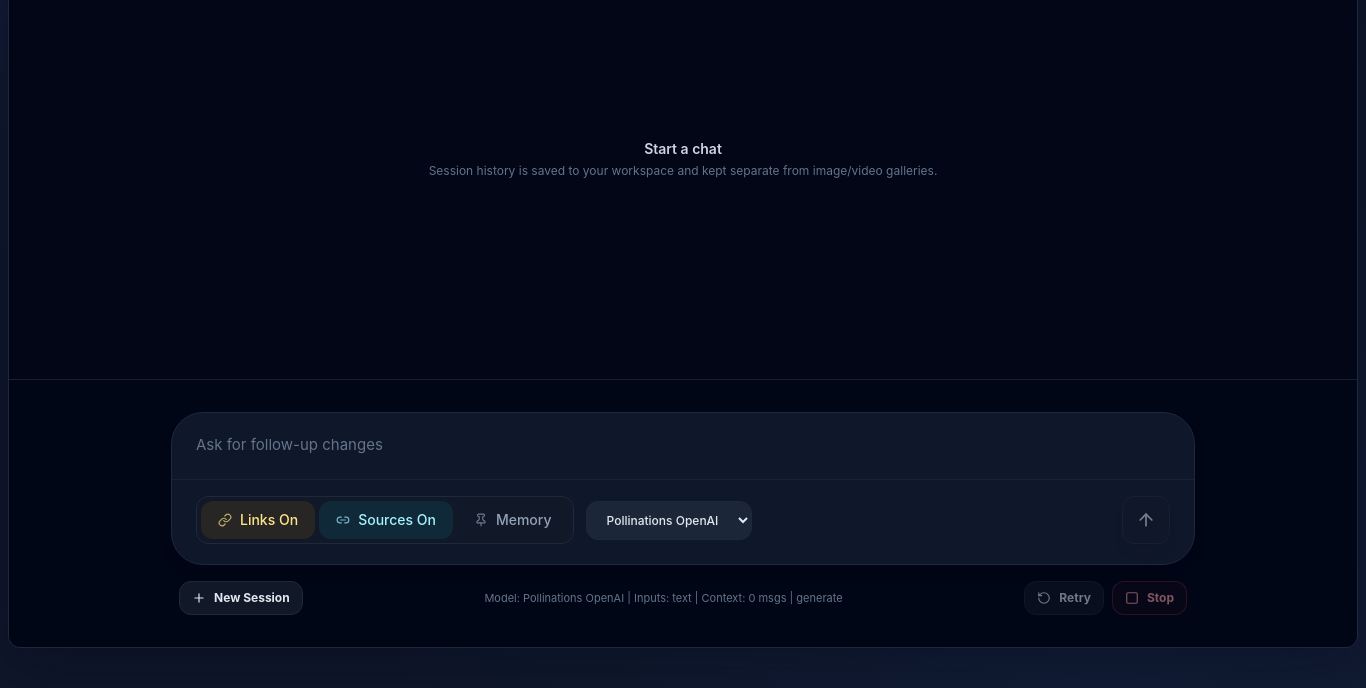
Test case: AIChat formatted-response regressions › does not render sources panel when diagnostics sources is empty
(page scrolled)
Type "No sources expected" into the text box with placeholder "Ask for follow-up changes" at (683, 443), box x1=172 y1=413 x2=1194 y2=473
Then press Enter
(page scrolled)
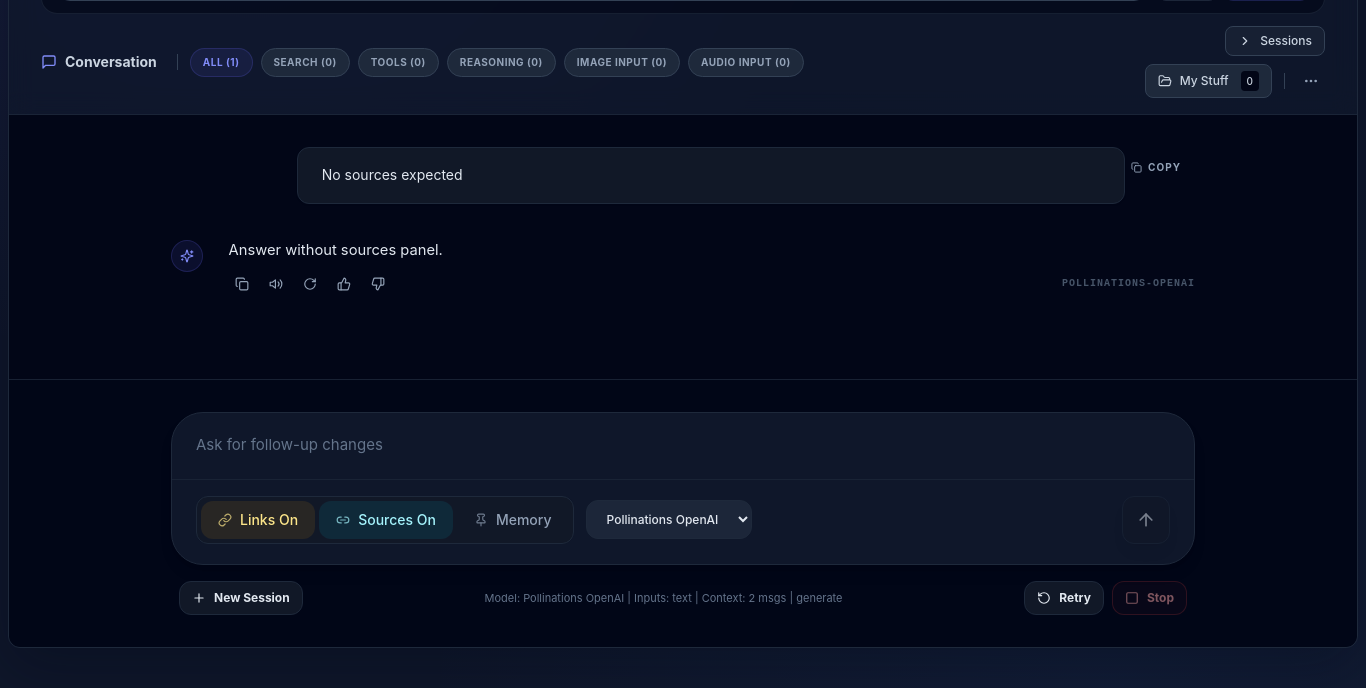
Expected: the text "Answer without sources panel." is shown, x1=229 y1=241 x2=443 y2=259
